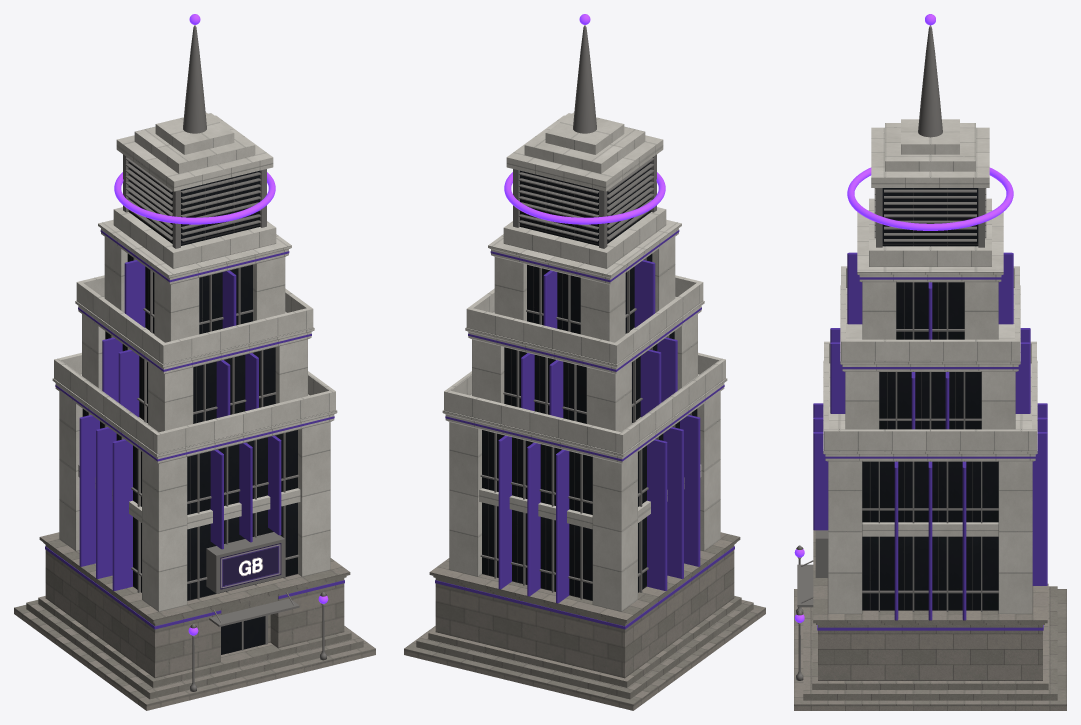
Rendered from s28-genomic-blockchain.glb.
3 views of the same model, side by side, from view 1: azimuth 30°, elevation 25°; view 2: azimuth 150°, elevation 25°; view 3: azimuth 270°, elevation 25° (orthographic). The views are drawn at different scales.
Parts seen in each view (by area): view 1: Landmark · Genomic.Blockchain (Series 28); view 2: Landmark · Genomic.Blockchain (Series 28); view 3: Landmark · Genomic.Blockchain (Series 28).
Boxes of the visible parts, x1,y1,x2,y2 form: Landmark · Genomic.Blockchain (Series 28): (14, 14, 375, 710); Landmark · Genomic.Blockchain (Series 28): (404, 14, 765, 710); Landmark · Genomic.Blockchain (Series 28): (794, 14, 1066, 710).
Bounding box in the file's own units: 12 × 31 × 12.
Materials: 7 (4 with a texture image).
